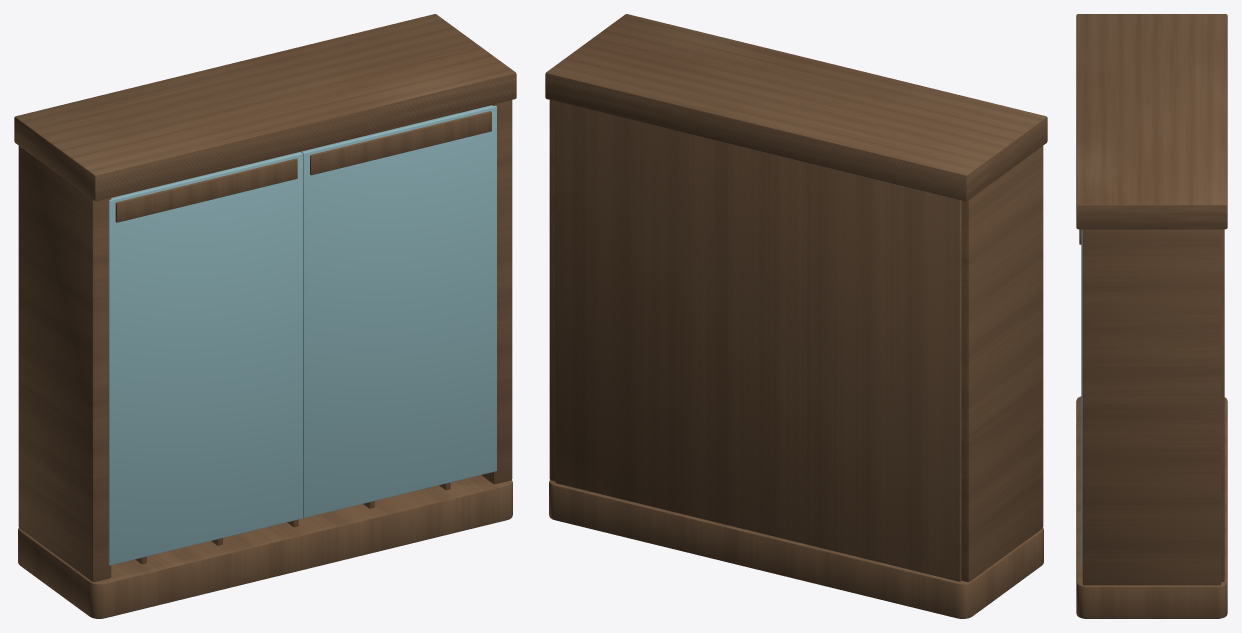
Rendered from rental_club_storage_high_end.glb.
The picture shows the model from 3 angles, left to right: view 1: azimuth 30°, elevation 25°; view 2: azimuth 150°, elevation 25°; view 3: azimuth 270°, elevation 25°; orthographic projection. The views are drawn at different scales.
Parts seen in each view (by area): view 1: ClubStorage_GlassDoor_L, ClubStorage_GlassDoor_R, ClubStorage_Top, ClubStorage_Side_-1, ClubStorage_Plinth, ClubStorage_Side_1, ClubStorage_DoorFrame_L, ClubStorage_DoorFrame_R; view 2: ClubStorage_Back, ClubStorage_Top, ClubStorage_Side_-1, ClubStorage_Plinth, ClubStorage_Side_1; view 3: ClubStorage_Side_1, ClubStorage_Top, ClubStorage_Plinth, ClubStorage_Back, ClubStorage_GlassDoor_R.
Part boxes in pixels (left/top/right/bottom): ClubStorage_GlassDoor_L: left=108, top=152, right=302, bottom=565; ClubStorage_GlassDoor_R: left=301, top=105, right=496, bottom=517; ClubStorage_Top: left=14, top=14, right=516, bottom=201; ClubStorage_Side_-1: left=18, top=146, right=111, bottom=582; ClubStorage_Plinth: left=18, top=475, right=512, bottom=618; ClubStorage_Side_1: left=459, top=100, right=512, bottom=484; ClubStorage_DoorFrame_L: left=115, top=158, right=297, bottom=222; ClubStorage_DoorFrame_R: left=310, top=111, right=491, bottom=175; ClubStorage_Back: left=555, top=101, right=961, bottom=581; ClubStorage_Top: left=545, top=14, right=1047, bottom=201; ClubStorage_Side_-1: left=961, top=146, right=1043, bottom=582; ClubStorage_Plinth: left=549, top=480, right=1043, bottom=618; ClubStorage_Side_1: left=549, top=100, right=555, bottom=481; ClubStorage_Side_1: left=1082, top=229, right=1221, bottom=585; ClubStorage_Top: left=1076, top=14, right=1227, bottom=229; ClubStorage_Plinth: left=1076, top=396, right=1227, bottom=618; ClubStorage_Back: left=1221, top=229, right=1224, bottom=581; ClubStorage_GlassDoor_R: left=1081, top=229, right=1082, bottom=565.
Size of what is drawn, in the model's own units: 2.1 by 2.12 by 0.7.
6 materials, 1 textured.
